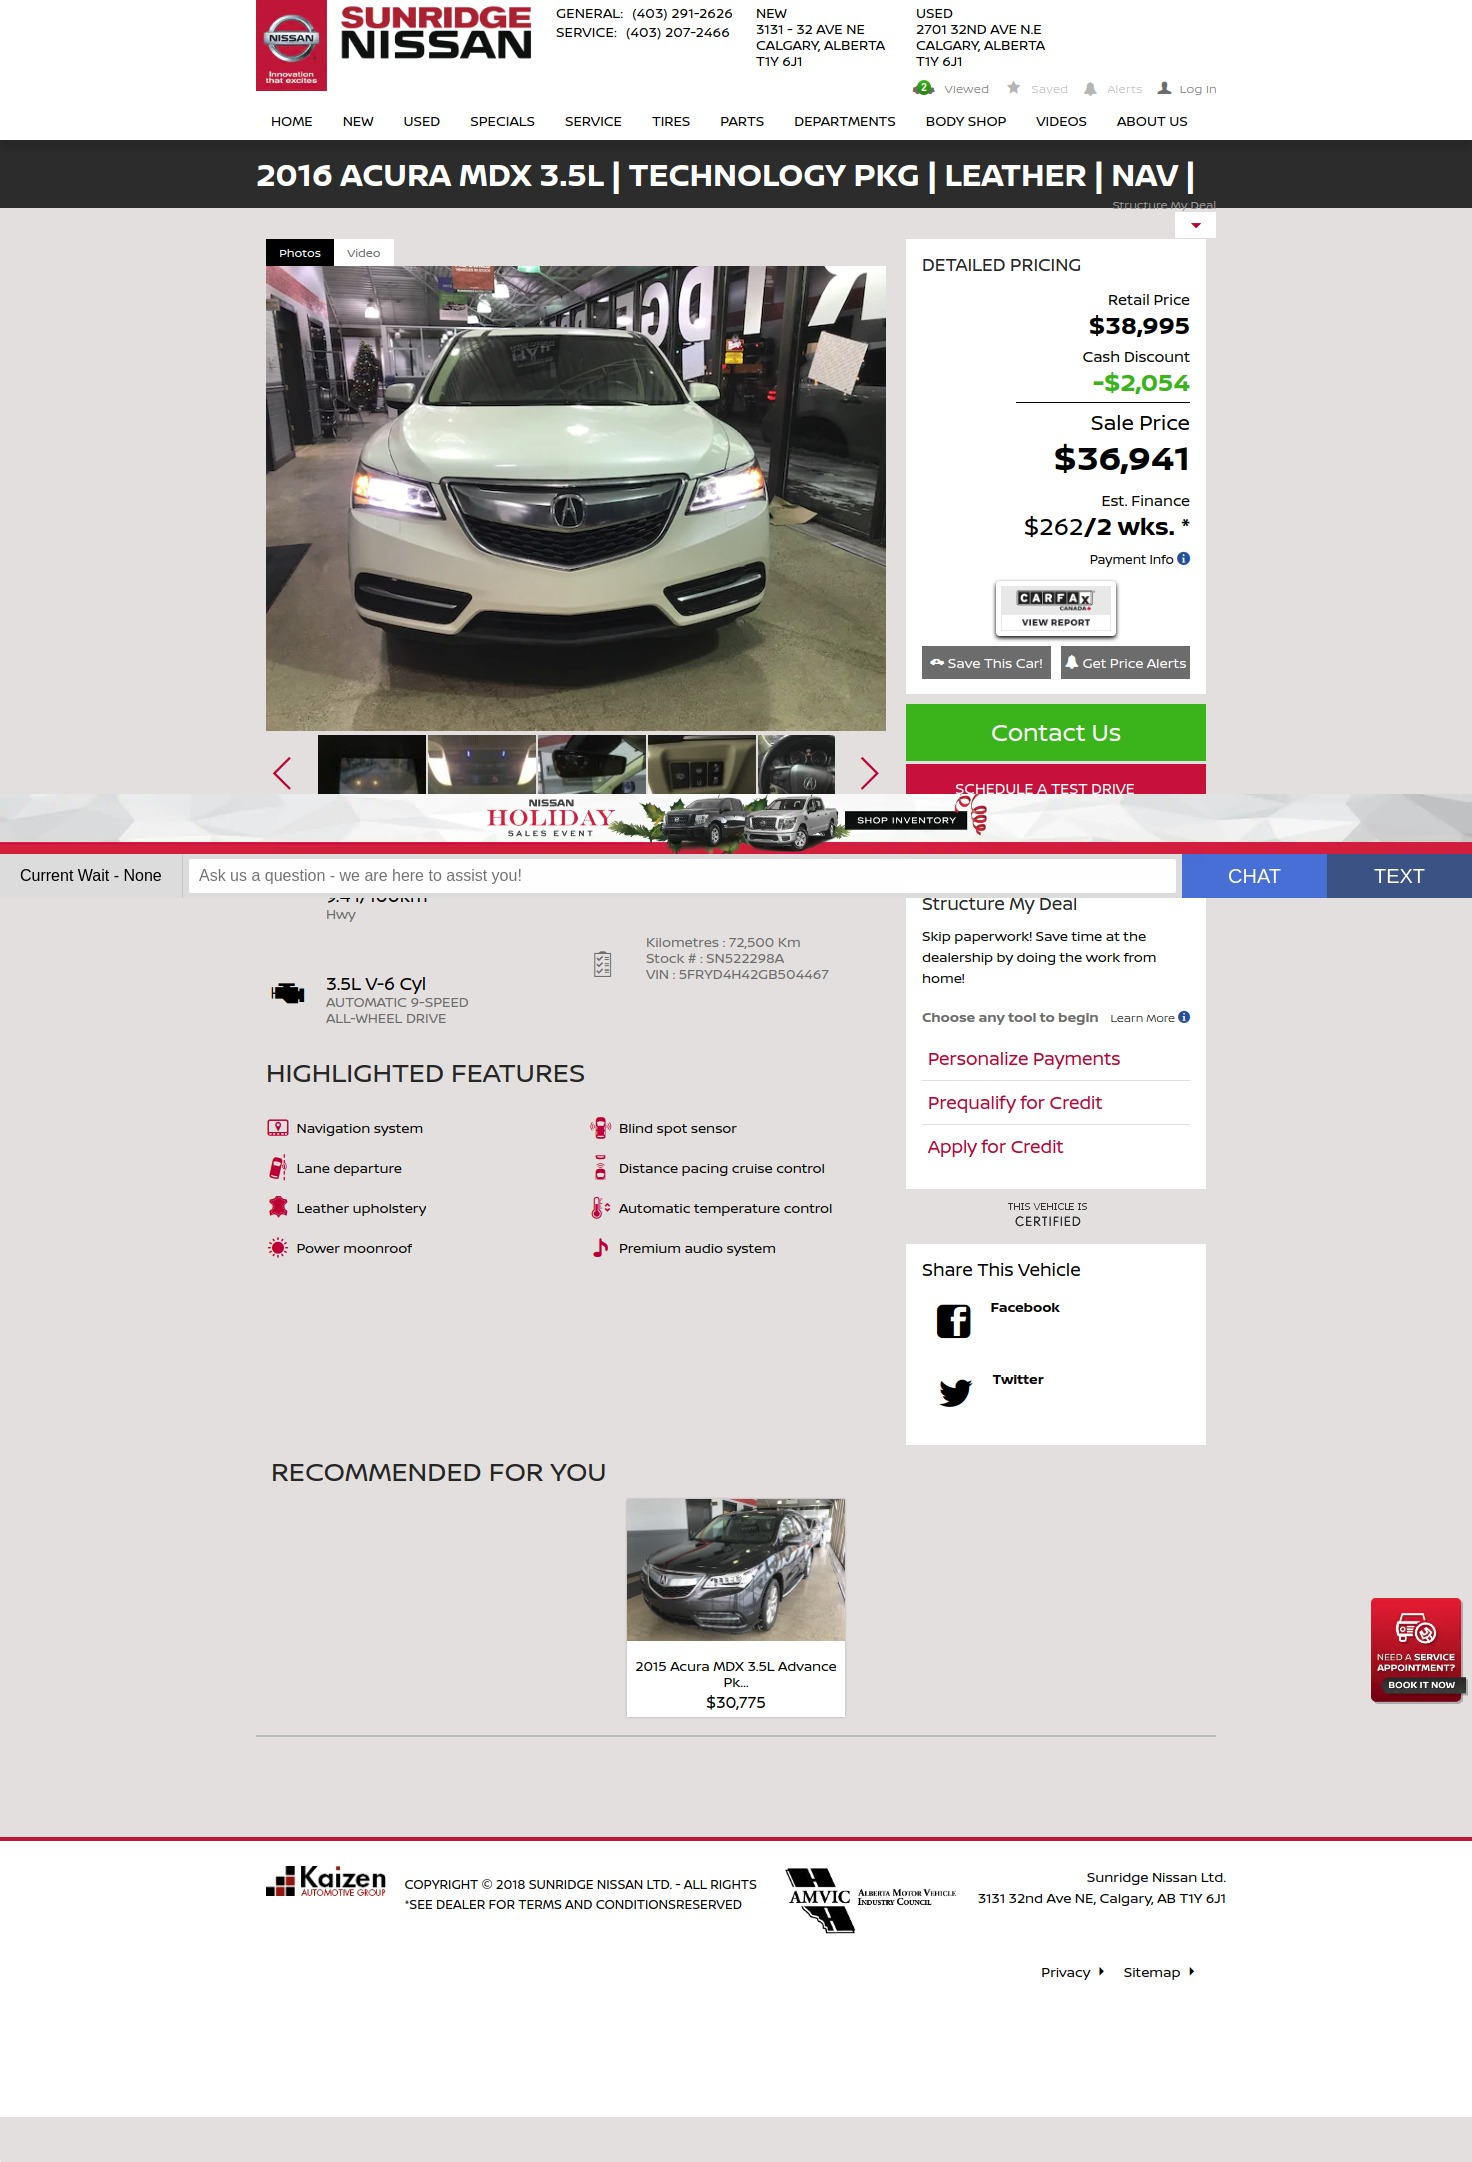car: (861, 757, 881, 790)
